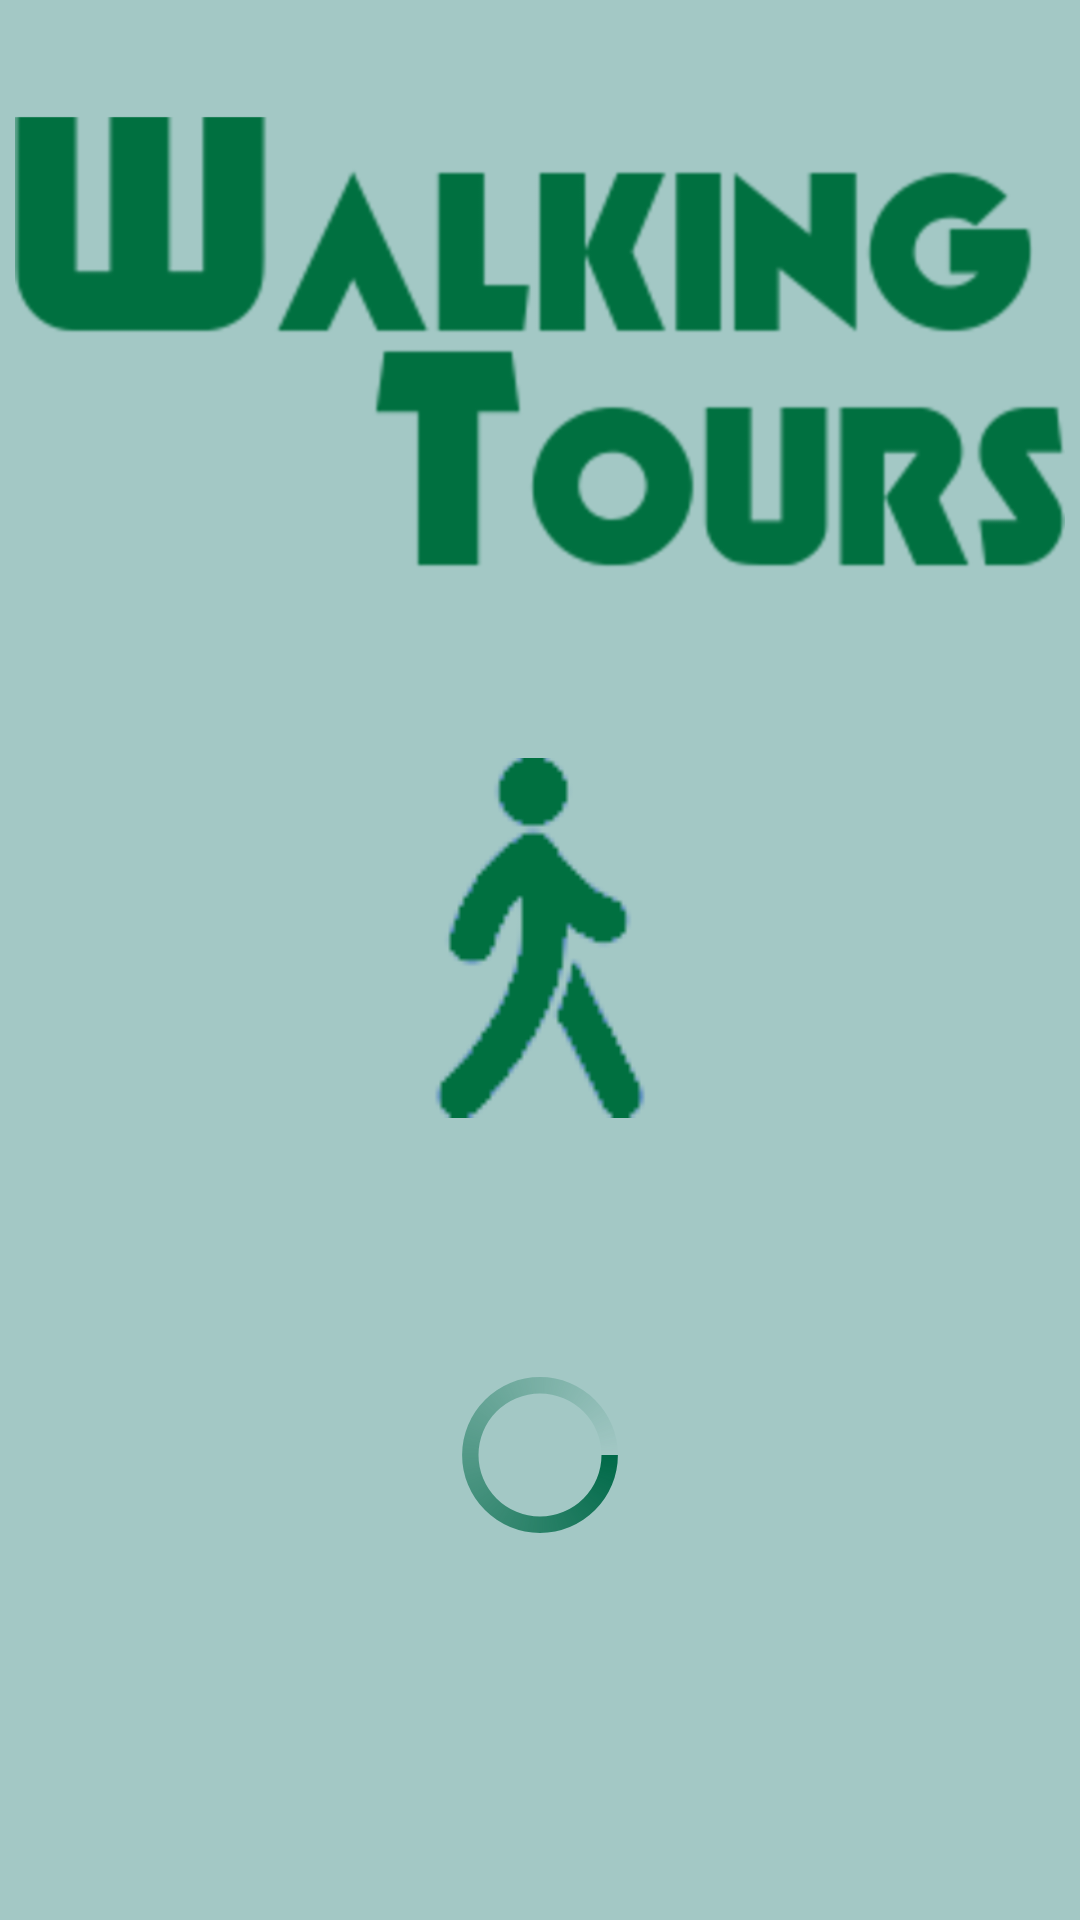

Screen size 1080px x 1920px. Icon name, then its center in pixels as (x,y):
walker right: (540,938)
